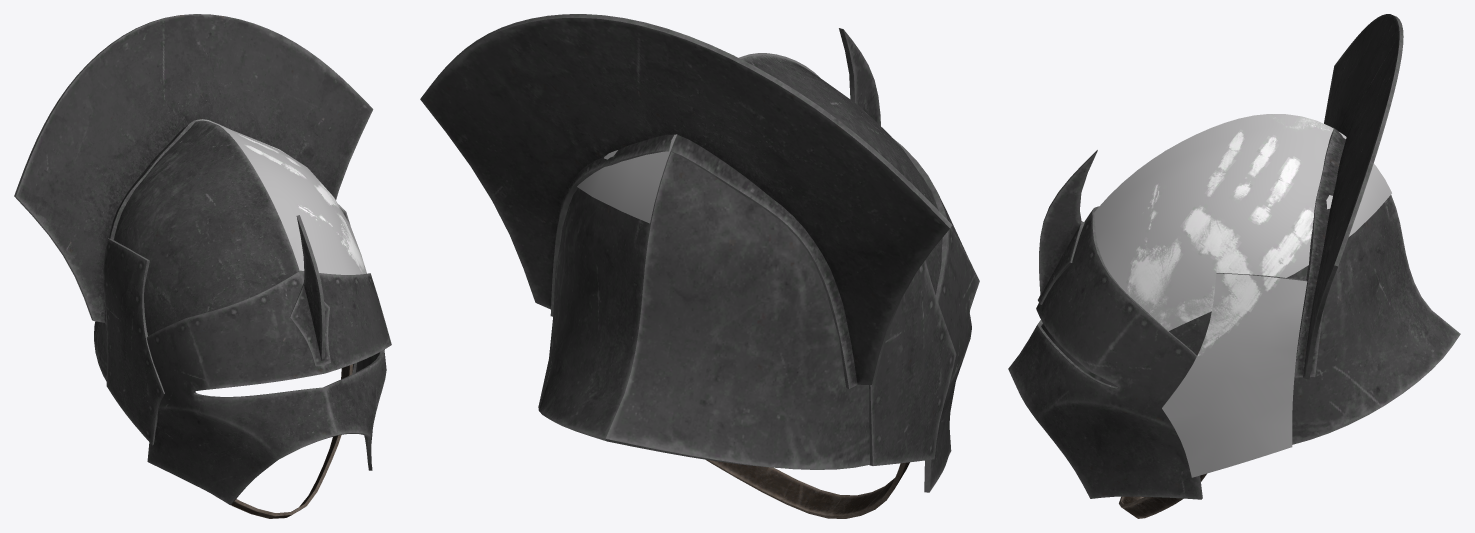
The model's file is sk_uruk_hai_helmet_spear_heavy_a2.fbx.
The picture shows the model from 3 angles, left to right: view 1: azimuth 30°, elevation 25°; view 2: azimuth 150°, elevation 25°; view 3: azimuth 270°, elevation 25°; orthographic projection. The views are drawn at different scales.
Visible parts, largest first — view 1: sk_uruk_hai_helmet_spear_heavy_a2.2, sk_uruk_hai_helmet_spear_heavy_a2.0, sk_uruk_hai_helmet_spear_heavy_a2.1; view 2: sk_uruk_hai_helmet_spear_heavy_a2.2, sk_uruk_hai_helmet_spear_heavy_a2.1, sk_uruk_hai_helmet_spear_heavy_a2.0; view 3: sk_uruk_hai_helmet_spear_heavy_a2.2, sk_uruk_hai_helmet_spear_heavy_a2.0, sk_uruk_hai_helmet_spear_heavy_a2.1.
Boxes of the visible parts, left/top/right/bottom form: sk_uruk_hai_helmet_spear_heavy_a2.2: left=14, top=14, right=391, bottom=504; sk_uruk_hai_helmet_spear_heavy_a2.0: left=195, top=119, right=366, bottom=274; sk_uruk_hai_helmet_spear_heavy_a2.1: left=219, top=364, right=352, bottom=518; sk_uruk_hai_helmet_spear_heavy_a2.2: left=420, top=14, right=979, bottom=492; sk_uruk_hai_helmet_spear_heavy_a2.1: left=706, top=459, right=909, bottom=518; sk_uruk_hai_helmet_spear_heavy_a2.0: left=577, top=53, right=819, bottom=223; sk_uruk_hai_helmet_spear_heavy_a2.2: left=1008, top=14, right=1460, bottom=499; sk_uruk_hai_helmet_spear_heavy_a2.0: left=1094, top=114, right=1391, bottom=477; sk_uruk_hai_helmet_spear_heavy_a2.1: left=1119, top=473, right=1206, bottom=518.
Size of the model in its own units: 0.3371 by 0.3233 by 0.3757.
Materials: 3 (3 with a texture image).
